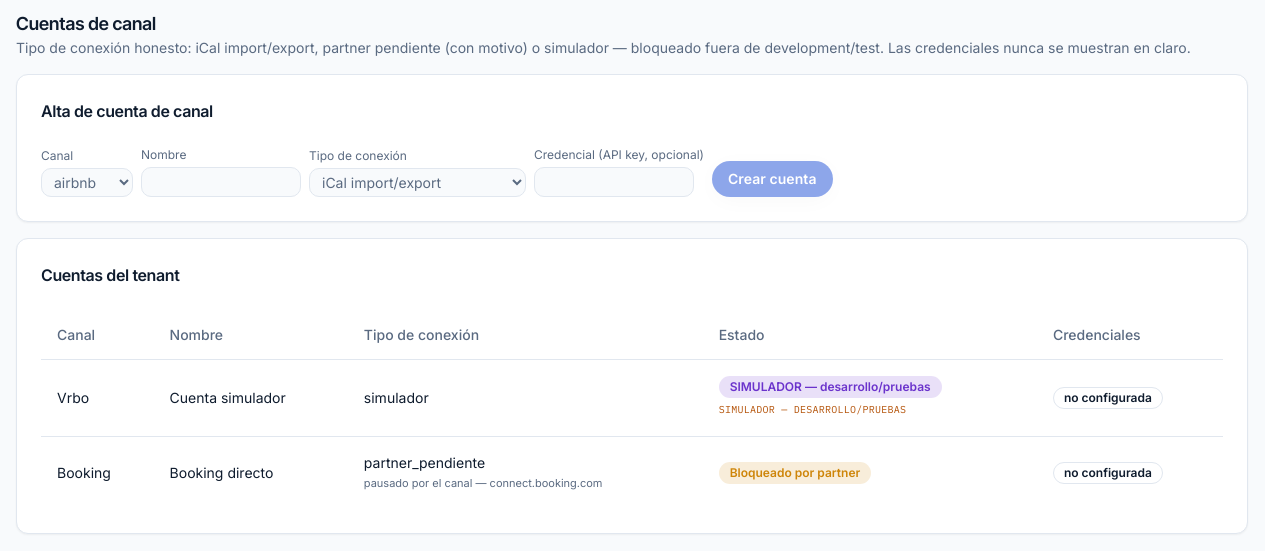
Test: CuentasCanalPage — H-011/H-012 (tipo de conexión honesto, sin credenciales) › el formulario de alta exige motivo cuando se elige 'partner pendiente'
Select "Partner directo (pendiente)" in the dropdown labelled "Tipo de conexión" at x=418, y=182, box [309, 168, 526, 197]
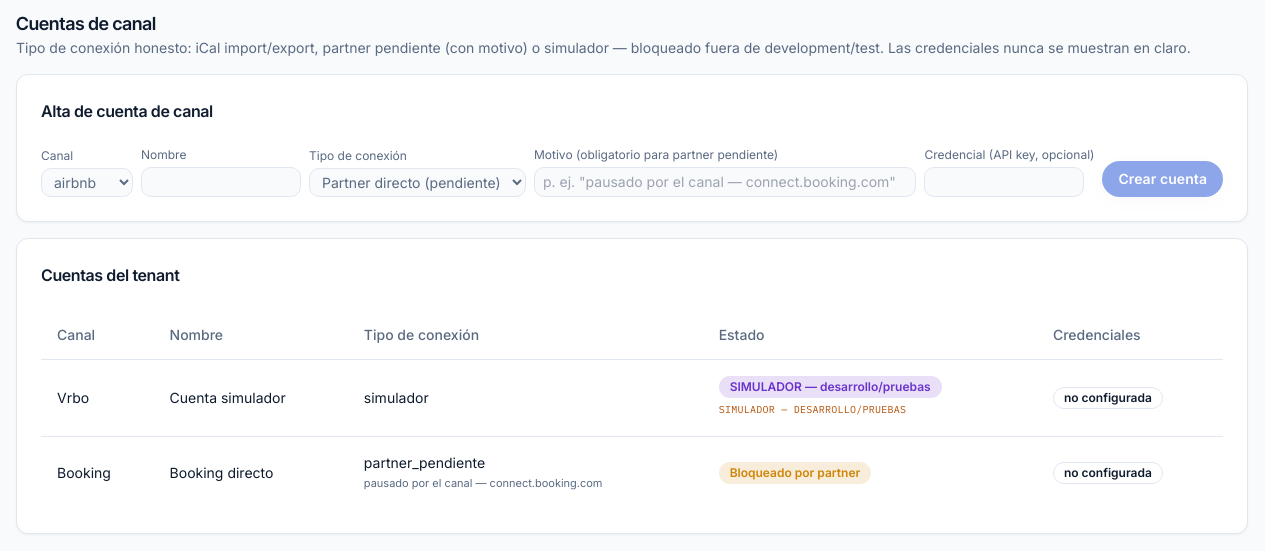
Expected: the field with placeholder "p. ej. \"pausado por el canal — connect.booking.com\"" is shown, [534, 167, 916, 197]
